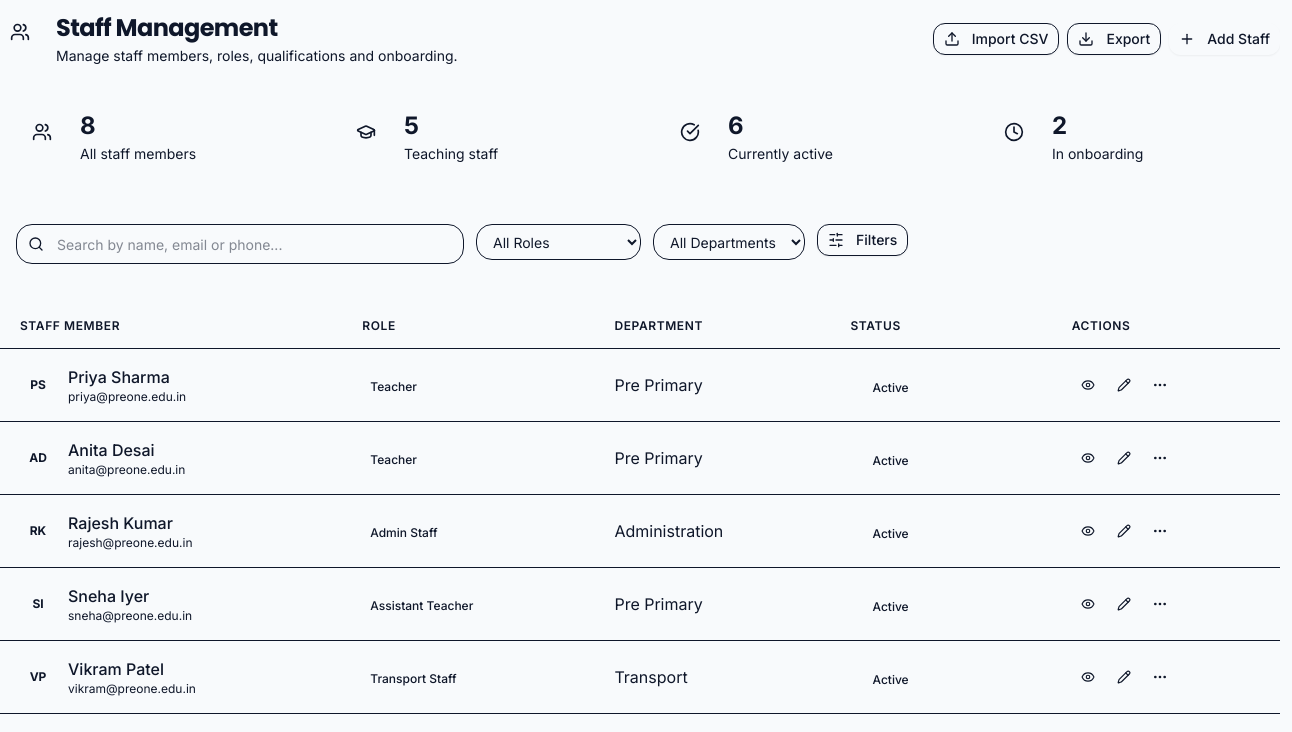
Test: StaffManagementPage › filters staff by name when typing in search
The image size is (1292, 732).
Type "Priya" into the field with placeholder "Search by name, email or phone...".
click(240, 244); type("Priya")  # box 16,224 -> 464,264
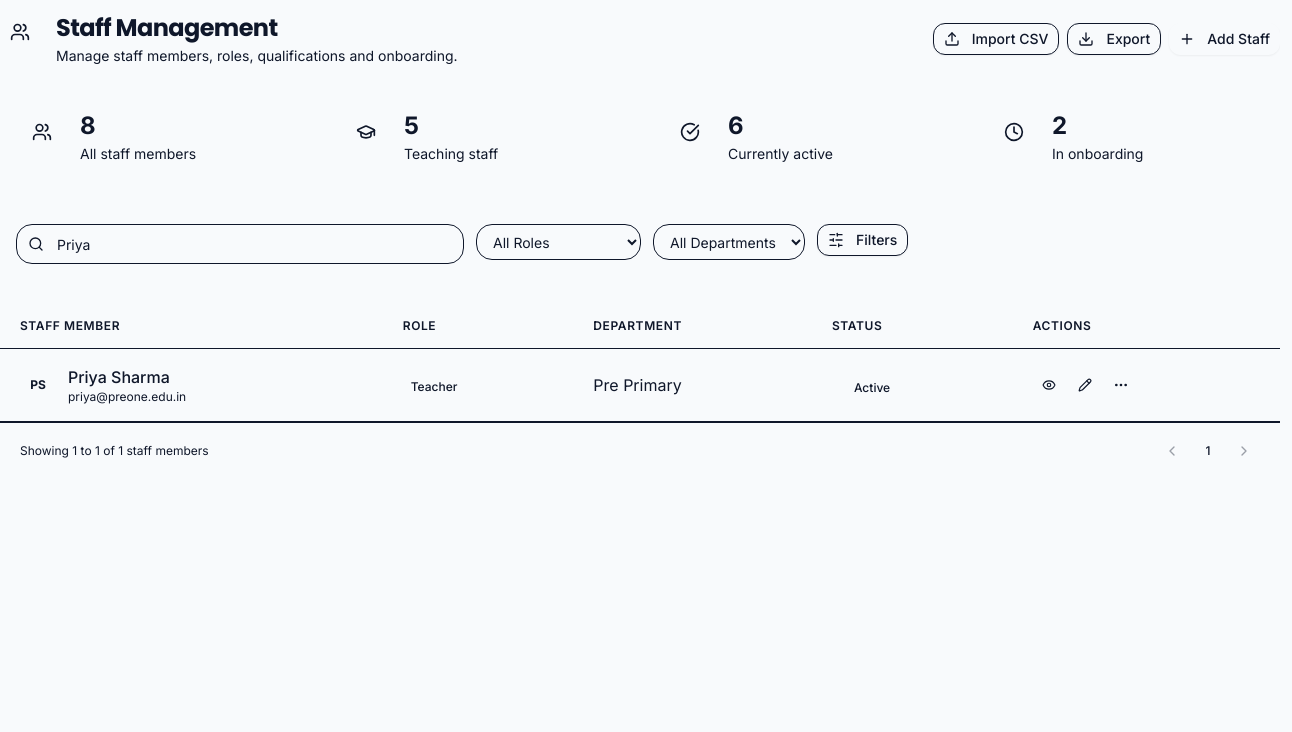
Expected: the text "Priya Sharma" is shown, 68,365 -> 186,389
Now the text "Anita Desai" is gone
